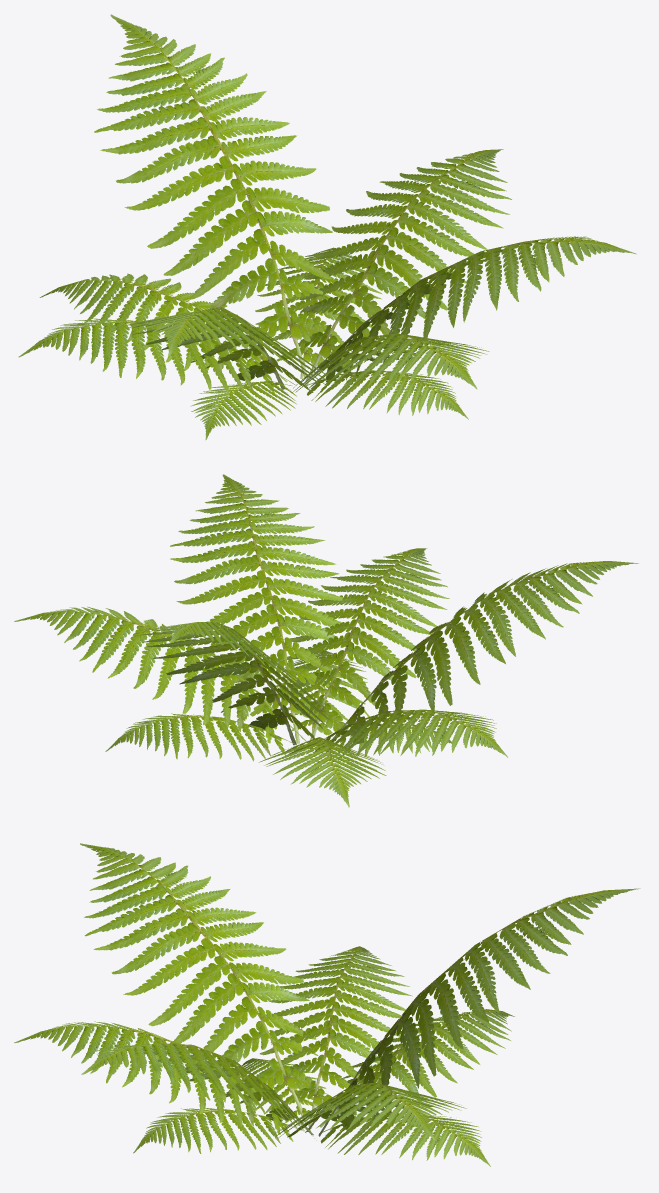
File: fern.fbx
3 views of the same model, one above another, from view 1: azimuth 30°, elevation 25°; view 2: azimuth 150°, elevation 25°; view 3: azimuth 270°, elevation 25° (orthographic). The views are drawn at different scales.
Parts seen in each view (by area): view 1: Tree_0; view 2: Tree_0; view 3: Tree_0.
Boxes of the visible parts, bbox=[...] form: Tree_0: bbox=[18, 14, 636, 440]; Tree_0: bbox=[14, 474, 638, 807]; Tree_0: bbox=[14, 843, 640, 1166].
Bounding box in the file's own units: 217 × 93.46 × 226.
